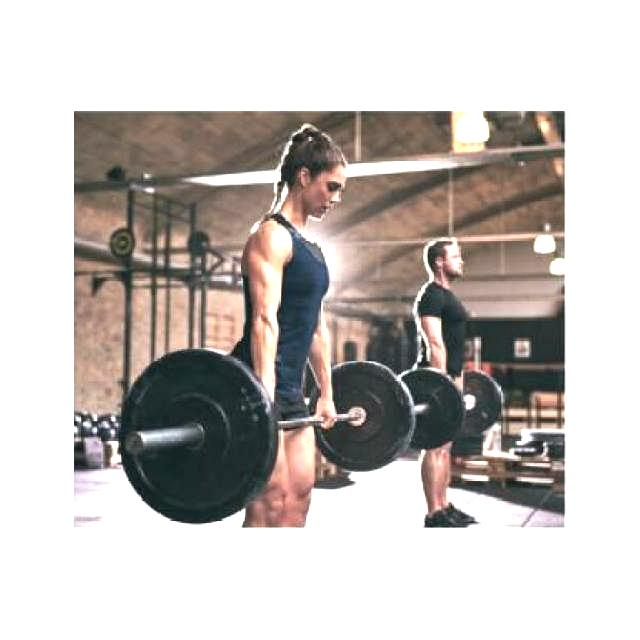barbell: (111, 340, 285, 529)
